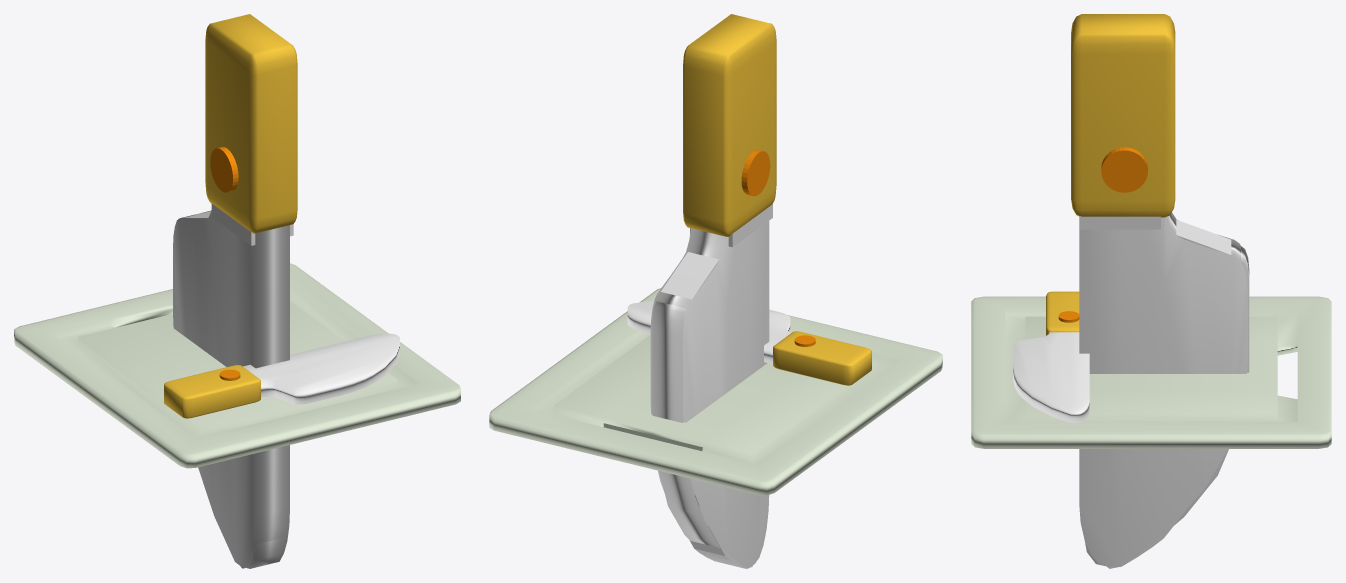
Rendered from Tabla de picar.fbx.
3 views of the same model, side by side, from view 1: azimuth 30°, elevation 25°; view 2: azimuth 150°, elevation 25°; view 3: azimuth 270°, elevation 25° (orthographic). The views are drawn at different scales.
Parts seen in each view (by area): view 1: Cube, Cube.003, Cube.004, Cube.005, Cube.006, Cylinder, Cube.001, Plane; view 2: Cube, Cube.004, Cube.003, Cube.001, Cube.006, Cube.002, Cube.005, Cylinder, Plane; view 3: Cube.003, Cube, Cube.004, Cube.005, Cylinder, Cube.006, Cube.002, Plane, Cube.001.
Part boxes in pixels (bbox=[...]): Cube: bbox=[14, 263, 460, 468]; Cube.003: bbox=[173, 210, 289, 566]; Cube.004: bbox=[205, 14, 297, 233]; Cube.005: bbox=[243, 333, 399, 404]; Cube.006: bbox=[164, 365, 260, 418]; Cylinder: bbox=[210, 147, 238, 192]; Cube.001: bbox=[244, 537, 285, 568]; Plane: bbox=[211, 203, 293, 245]; Cube: bbox=[489, 288, 942, 495]; Cube.004: bbox=[683, 14, 776, 236]; Cube.003: bbox=[650, 221, 769, 568]; Cube.001: bbox=[652, 301, 719, 547]; Cube.006: bbox=[773, 331, 871, 385]; Cube.002: bbox=[661, 252, 752, 568]; Cube.005: bbox=[627, 300, 791, 363]; Cylinder: bbox=[741, 150, 770, 196]; Plane: bbox=[690, 203, 772, 247]; Cube.003: bbox=[1079, 212, 1247, 566]; Cube: bbox=[971, 296, 1331, 448]; Cube.004: bbox=[1071, 14, 1175, 217]; Cube.005: bbox=[1013, 332, 1089, 422]; Cylinder: bbox=[1101, 147, 1147, 192]; Cube.006: bbox=[1046, 291, 1079, 335]; Cube.002: bbox=[1107, 219, 1231, 568]; Plane: bbox=[1080, 216, 1160, 229]; Cube.001: bbox=[1085, 246, 1249, 566].
Size of the model in its own units: 161 by 290 by 176.
